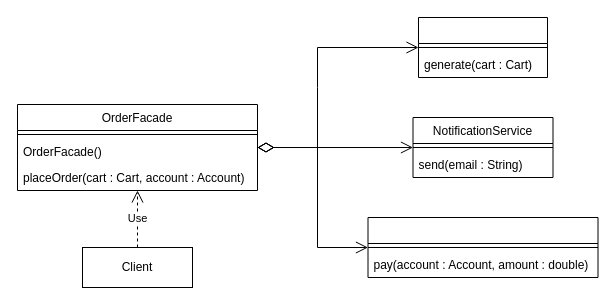
Image size: 616x305. Some labels were removed from this diagram. Each missing label, with the box of its shape:
InvoiceService: (418, 16, 548, 78)
PaymentService: (367, 216, 598, 278)
